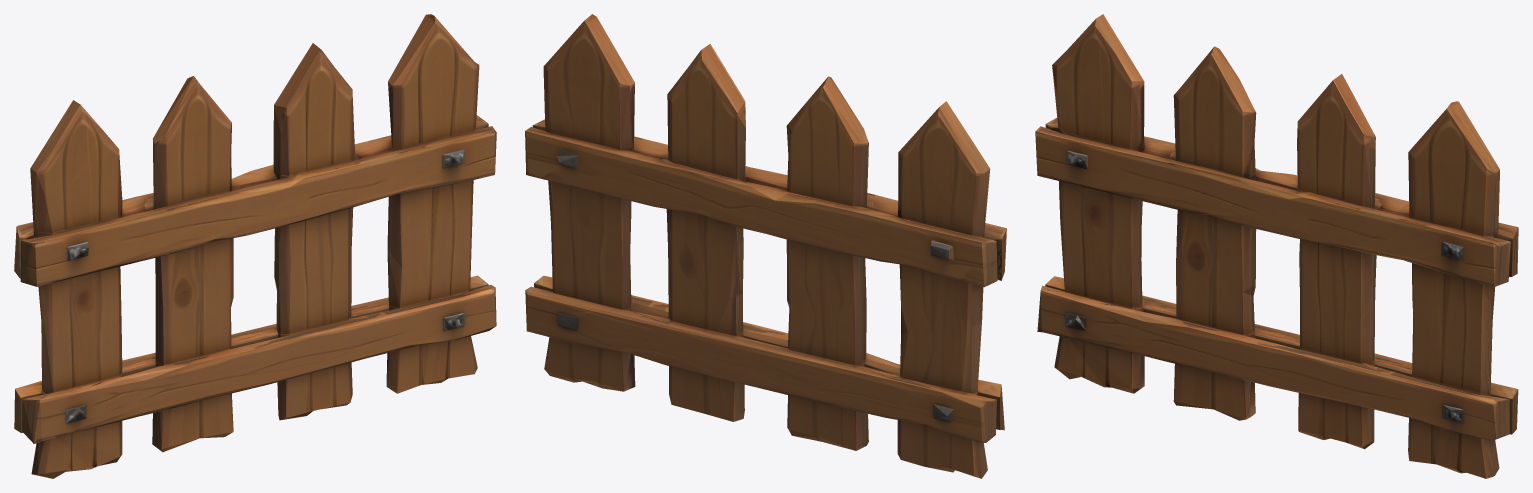
Rendered from Wooden_Fence_Render_0616180646_texture.fbx.
3 views of the same model, side by side, from view 1: azimuth 30°, elevation 25°; view 2: azimuth 150°, elevation 25°; view 3: azimuth 330°, elevation 25° (orthographic).
Parts seen in each view (by area): view 1: temp; view 2: temp; view 3: temp.
Part boxes in pixels (x1,y1,x2,y2): temp: (14, 14, 496, 478); temp: (525, 14, 1006, 478); temp: (1035, 14, 1518, 478).
Size of the model in its own units: 200 by 150 by 19.42.
1 material, 1 textured.
